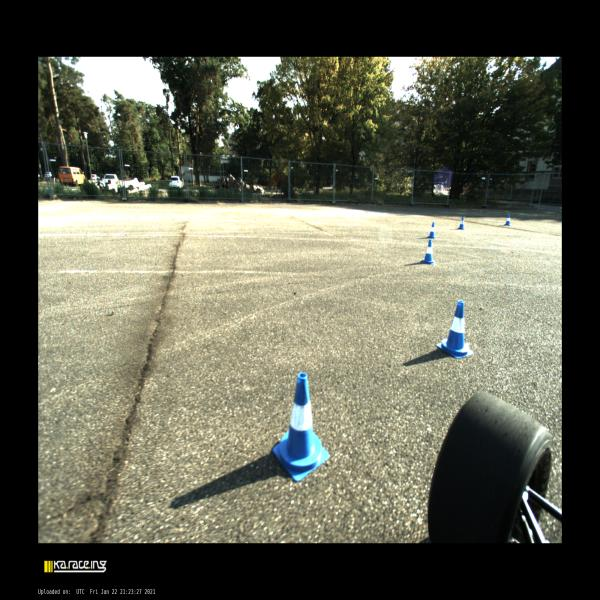blue_cone: (273, 373, 329, 481), (436, 300, 474, 360), (421, 240, 434, 264), (428, 222, 436, 238), (458, 217, 464, 229), (505, 214, 510, 226)
